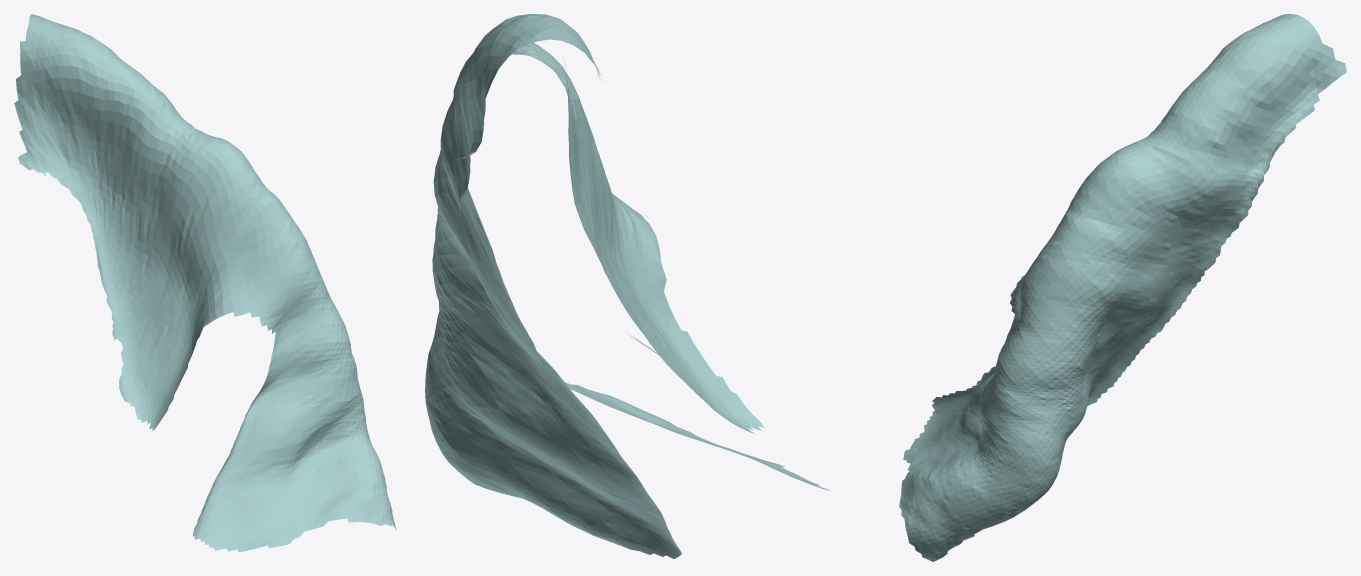
The model's file is rh_superiortemporal.glb.
3 renders of one model, left to right at view 1: azimuth 30°, elevation 25°; view 2: azimuth 150°, elevation 25°; view 3: azimuth 270°, elevation 25°, orthographic. The views are drawn at different scales.
Visible parts, largest first — view 1: world; view 2: world; view 3: world.
Part boxes in pixels (x1,y1,x2,y2): world: (14,14,396,552); world: (425,14,830,558); world: (899,14,1346,561).
Bounding box in the file's own units: 34.05 × 63.28 × 55.26.
